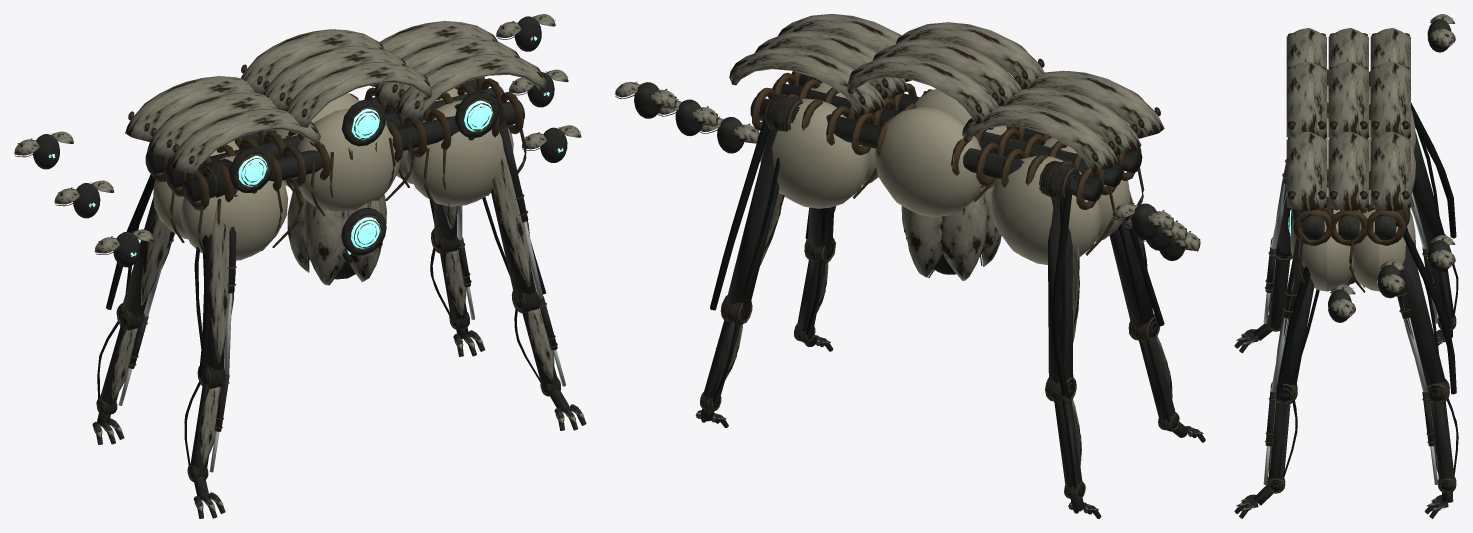
Rendered from boss-swarm-shepherd.glb.
3 views of the same model, side by side, from view 1: azimuth 30°, elevation 25°; view 2: azimuth 150°, elevation 25°; view 3: azimuth 270°, elevation 25° (orthographic). The views are drawn at different scales.
Parts seen in each view (by area): view 1: motion-body, motion-canopy-1, motion-canopy-0, motion-canopy-2, motion-core, motion-leg-0, motion-leg-2, motion-leg-1, motion-knee-0, motion-knee-1, motion-knee-2, motion-knee-3 (+11 smaller); view 2: motion-body, motion-canopy-1, motion-canopy-0, motion-canopy-2, motion-core, motion-leg-3, motion-leg-1, motion-leg-0, motion-knee-1, motion-knee-0, motion-knee-3, motion-knee-2 (+6 smaller); view 3: motion-body, motion-canopy-2, motion-canopy-1, motion-canopy-0, motion-leg-3, motion-leg-2, motion-knee-3, motion-knee-2, motion-leg-1, motion-knee-0, motion-knee-1, motion-leg-0 (+7 smaller).
Boxes of the visible parts, x1,y1,x2,y2 form: motion-body: (106, 39, 546, 377); motion-canopy-1: (241, 29, 432, 127); motion-canopy-0: (125, 76, 320, 174); motion-canopy-2: (369, 21, 546, 119); motion-core: (287, 187, 386, 285); motion-leg-0: (194, 158, 237, 376); motion-leg-2: (478, 94, 543, 302); motion-leg-1: (121, 182, 174, 319); motion-knee-0: (184, 366, 229, 479); motion-knee-1: (97, 303, 148, 413); motion-knee-2: (511, 290, 565, 393); motion-knee-3: (430, 228, 474, 327); motion-body: (710, 32, 1164, 395); motion-canopy-1: (847, 22, 1043, 123); motion-canopy-0: (962, 70, 1164, 172); motion-canopy-2: (729, 14, 911, 115); motion-core: (901, 185, 1001, 280); motion-leg-3: (727, 93, 803, 313); motion-leg-1: (1039, 160, 1079, 389); motion-leg-0: (1104, 140, 1156, 331); motion-knee-1: (1045, 377, 1082, 497); motion-knee-0: (1128, 314, 1176, 428); motion-knee-3: (704, 295, 752, 408); motion-knee-2: (797, 237, 835, 340); motion-body: (1276, 33, 1456, 394); motion-canopy-2: (1286, 131, 1410, 210); motion-canopy-1: (1286, 61, 1410, 138); motion-canopy-0: (1286, 28, 1410, 70); motion-leg-3: (1375, 207, 1445, 393); motion-leg-2: (1271, 196, 1333, 393); motion-knee-3: (1422, 378, 1458, 491); motion-knee-2: (1263, 382, 1297, 491); motion-leg-1: (1411, 116, 1444, 248); motion-knee-0: (1263, 237, 1292, 329); motion-knee-1: (1422, 234, 1458, 329); motion-leg-0: (1271, 74, 1328, 252).
Size of the model in its own units: 6.68 by 4.52 by 2.56.
Materials: 7 (4 with a texture image).
